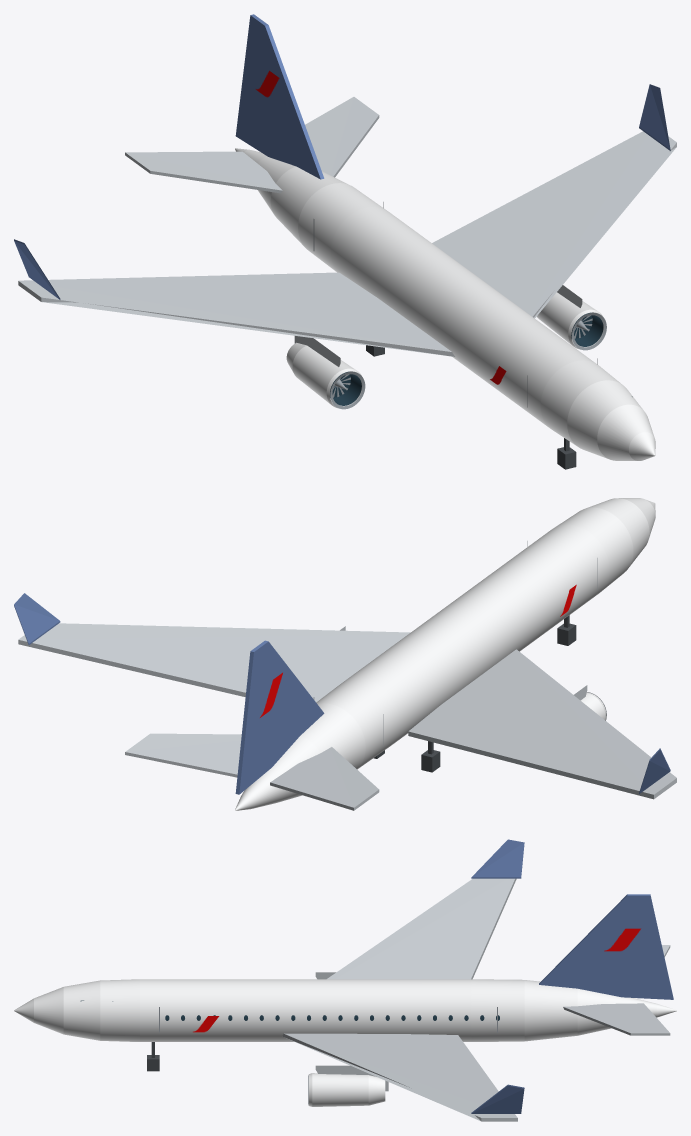
File: b737-AFR-v2.gltf
The picture shows the model from 3 angles, top to bottom: view 1: azimuth 30°, elevation 25°; view 2: azimuth 150°, elevation 25°; view 3: azimuth 270°, elevation 25°; orthographic projection. The views are drawn at different scales.
Visible parts, largest first — view 1: object 1; view 2: object 1, Gear; view 3: object 1.
Part boxes in pixels (bbox=[...]): object 1: bbox=[14, 14, 676, 460]; object 1: bbox=[14, 498, 676, 810]; Gear: bbox=[373, 615, 576, 772]; object 1: bbox=[14, 839, 676, 1121].
Size of the model in its own units: 35 by 11.6 by 40.
Materials: 7 (1 with a texture image).
